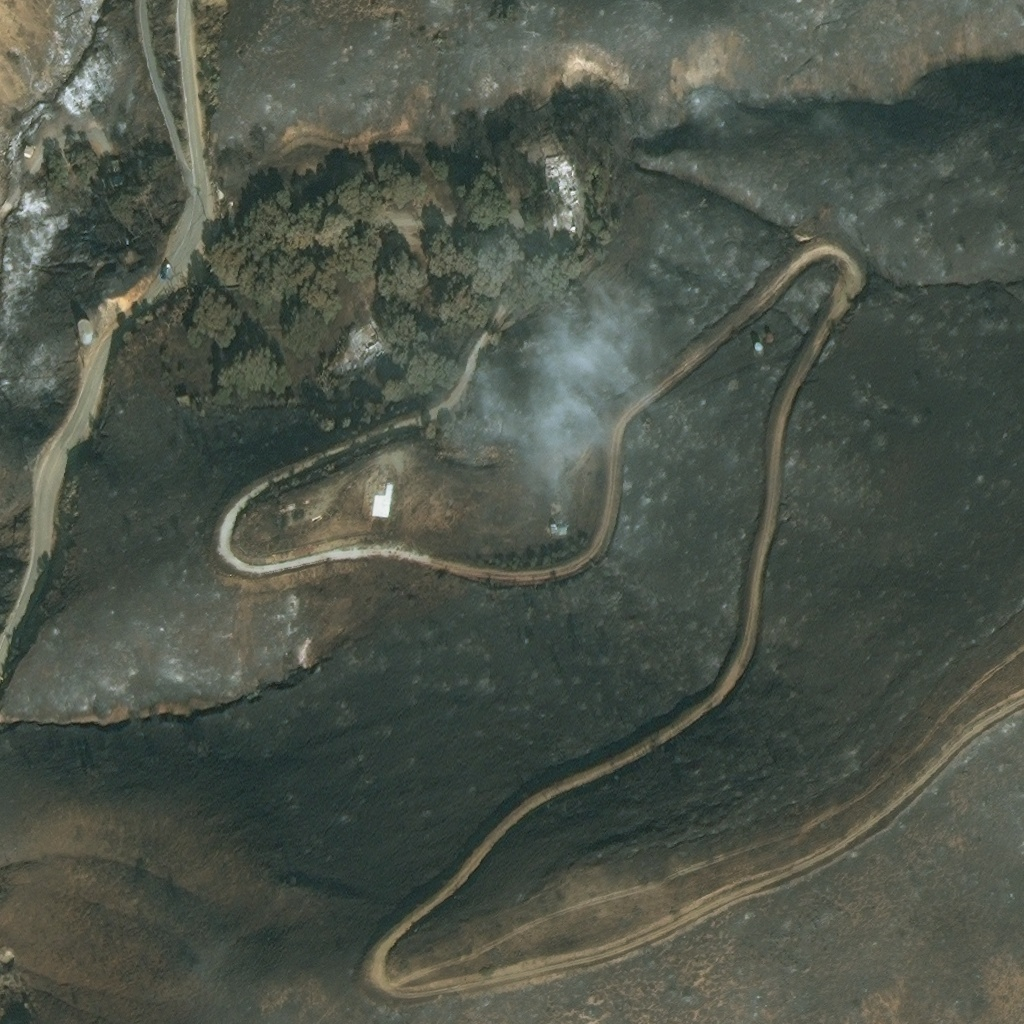0 no-damage: (370, 481, 394, 517), (75, 320, 94, 343), (550, 519, 569, 530), (752, 340, 765, 355), (23, 144, 35, 157), (217, 188, 225, 199)
3 destroyed: (351, 322, 389, 356)
